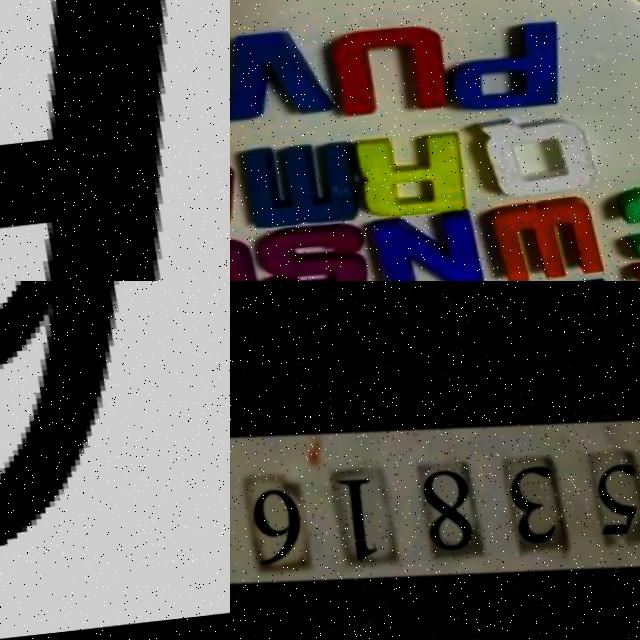1: (319, 470, 405, 573)
3: (495, 459, 573, 556)
5: (581, 453, 640, 551)
6: (0, 281, 177, 593), (234, 475, 320, 580)
8: (405, 458, 491, 565)
C: (610, 180, 640, 268)
M: (230, 140, 358, 230)
N: (362, 212, 481, 281)
P: (439, 20, 567, 115)
Q: (470, 112, 586, 200)
R: (0, 0, 230, 281), (351, 131, 465, 219)
S: (248, 220, 359, 281)
U: (320, 24, 448, 122)
V: (230, 26, 329, 122)
W: (475, 195, 599, 281)
